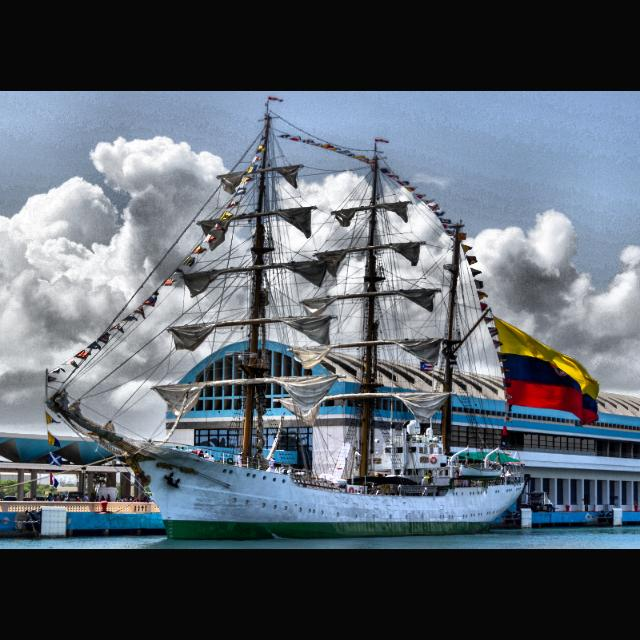sailing_vessel: (43, 112, 529, 544)
